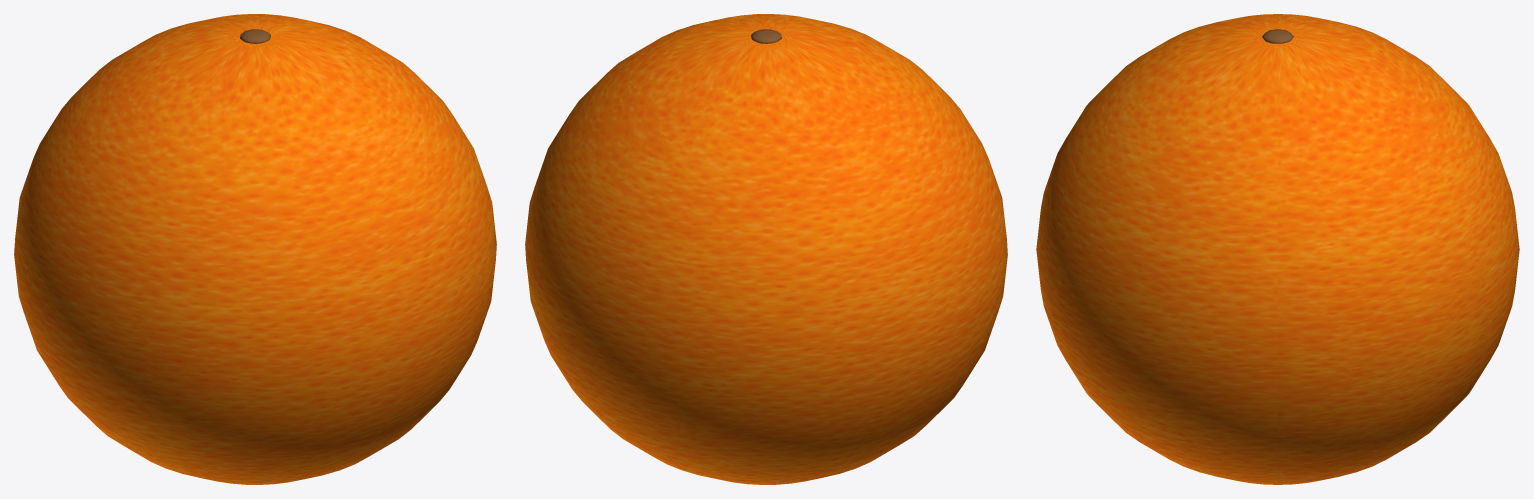
The model's file is orange-DP3hSl9m.glb.
3 renders of one model, left to right at view 1: azimuth 30°, elevation 25°; view 2: azimuth 150°, elevation 25°; view 3: azimuth 270°, elevation 25°, orthographic.
Visible parts, largest first — view 1: FLV5_Orange; view 2: FLV5_Orange; view 3: FLV5_Orange.
Boxes of the visible parts, x1,y1,x2,y2 form: FLV5_Orange: (14,14,496,484); FLV5_Orange: (525,14,1007,484); FLV5_Orange: (1036,14,1519,484).
Bounding box in the file's own units: 1.36 × 1.33 × 1.36.
Materials: 2 (1 with a texture image).
